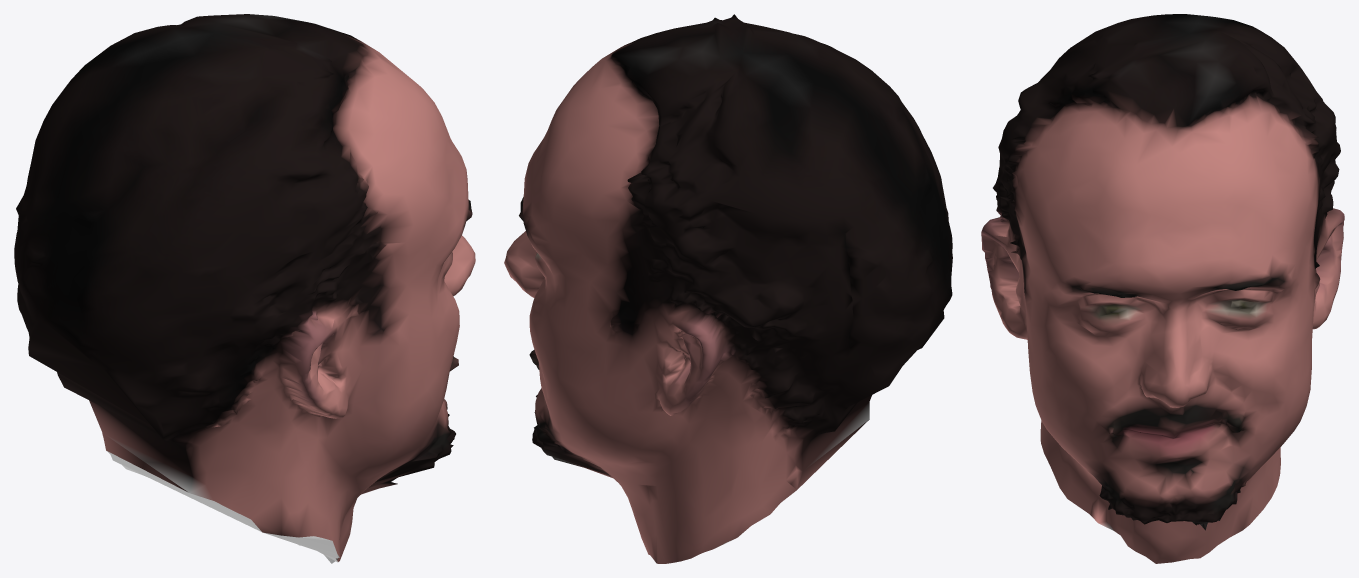
Rendered from lawlorhead_10k.glb.
3 views of the same model, side by side, from view 1: azimuth 30°, elevation 25°; view 2: azimuth 150°, elevation 25°; view 3: azimuth 270°, elevation 25° (orthographic). The views are drawn at different scales.
Parts seen in each view (by area): view 1: lawlorhead_10k; view 2: lawlorhead_10k; view 3: lawlorhead_10k.
Boxes of the visible parts, x1,y1,x2,y2 form: lawlorhead_10k: (14, 14, 475, 563); lawlorhead_10k: (504, 14, 952, 563); lawlorhead_10k: (981, 14, 1344, 563).
Size of the model in its own units: 0.2406 by 0.2795 by 0.1891.
